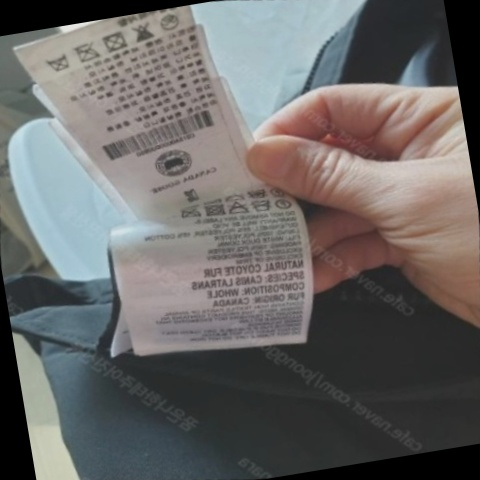DN_bleach: (129, 18, 158, 46), (223, 197, 251, 220)
DN_iron: (69, 36, 102, 68), (177, 202, 203, 225)
DN_tumble_dry: (96, 26, 131, 58), (200, 198, 229, 222)
DN_wash: (40, 48, 73, 76), (248, 196, 275, 217), (244, 183, 269, 205)
dry_clean: (155, 8, 184, 35)
dry_clean_any_solvent_except_trichloroethylene: (271, 195, 294, 213), (269, 182, 287, 200)
